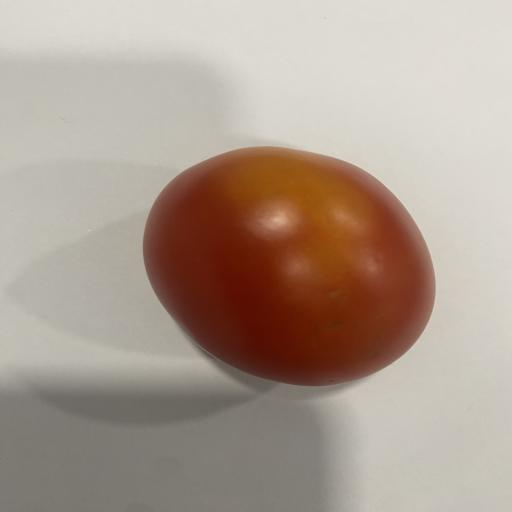ripe: (144, 147, 435, 386)
